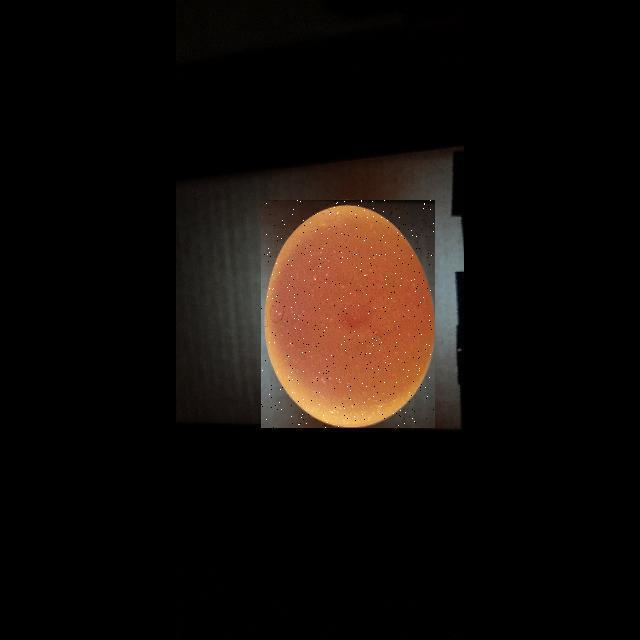Inedible: (259, 196, 447, 424)
